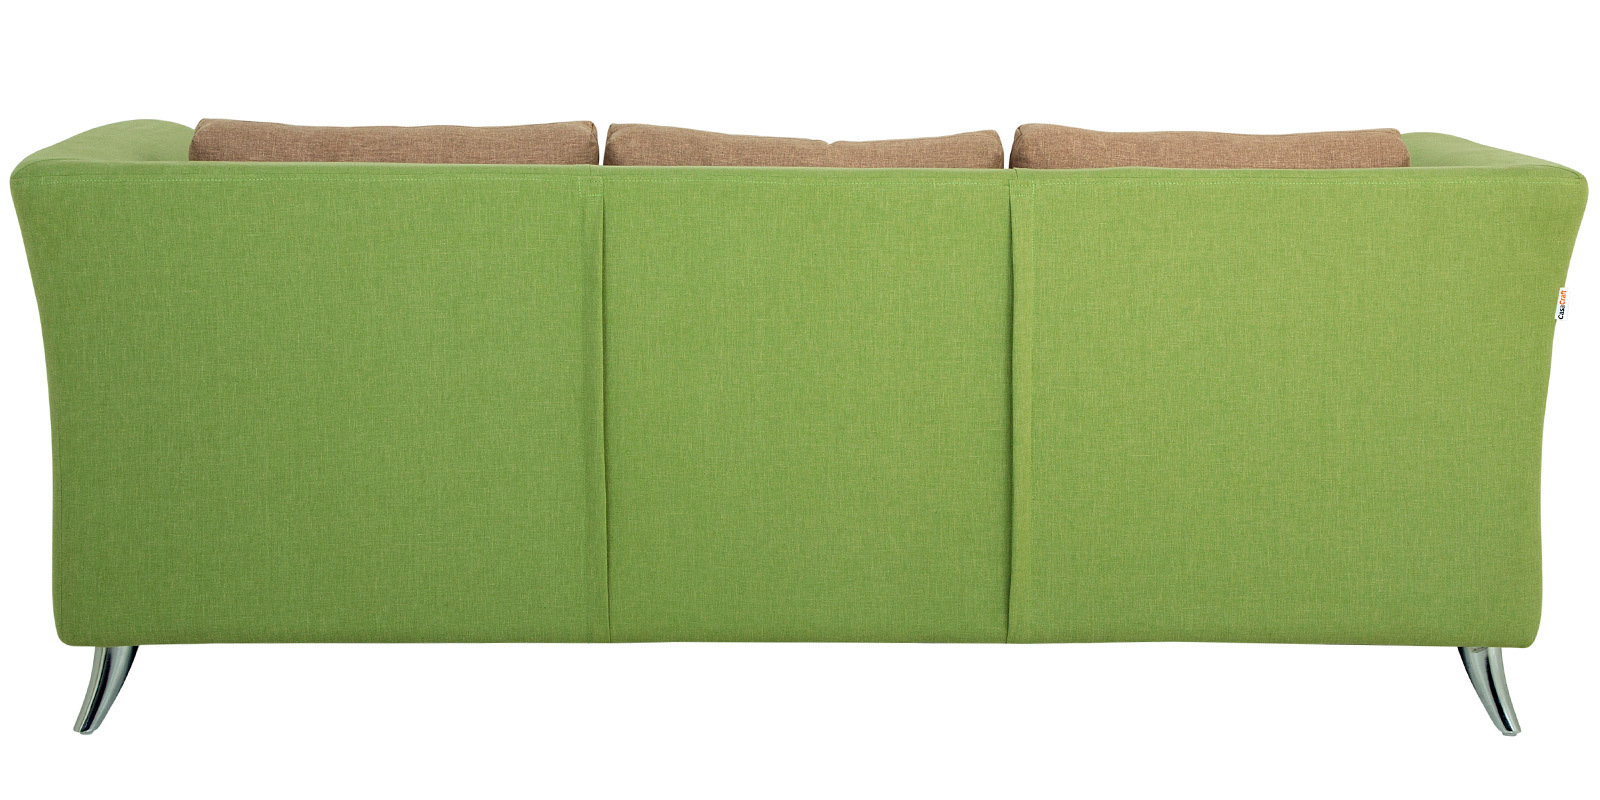Iowa Three Seater Sofa in Pear Green Colour by Furnitech: (14, 103, 1579, 771)
